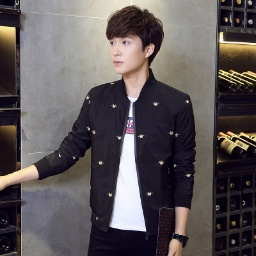face: (103, 5, 165, 78)
